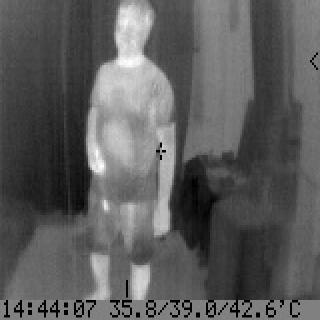Gun: (84, 147, 112, 215)
